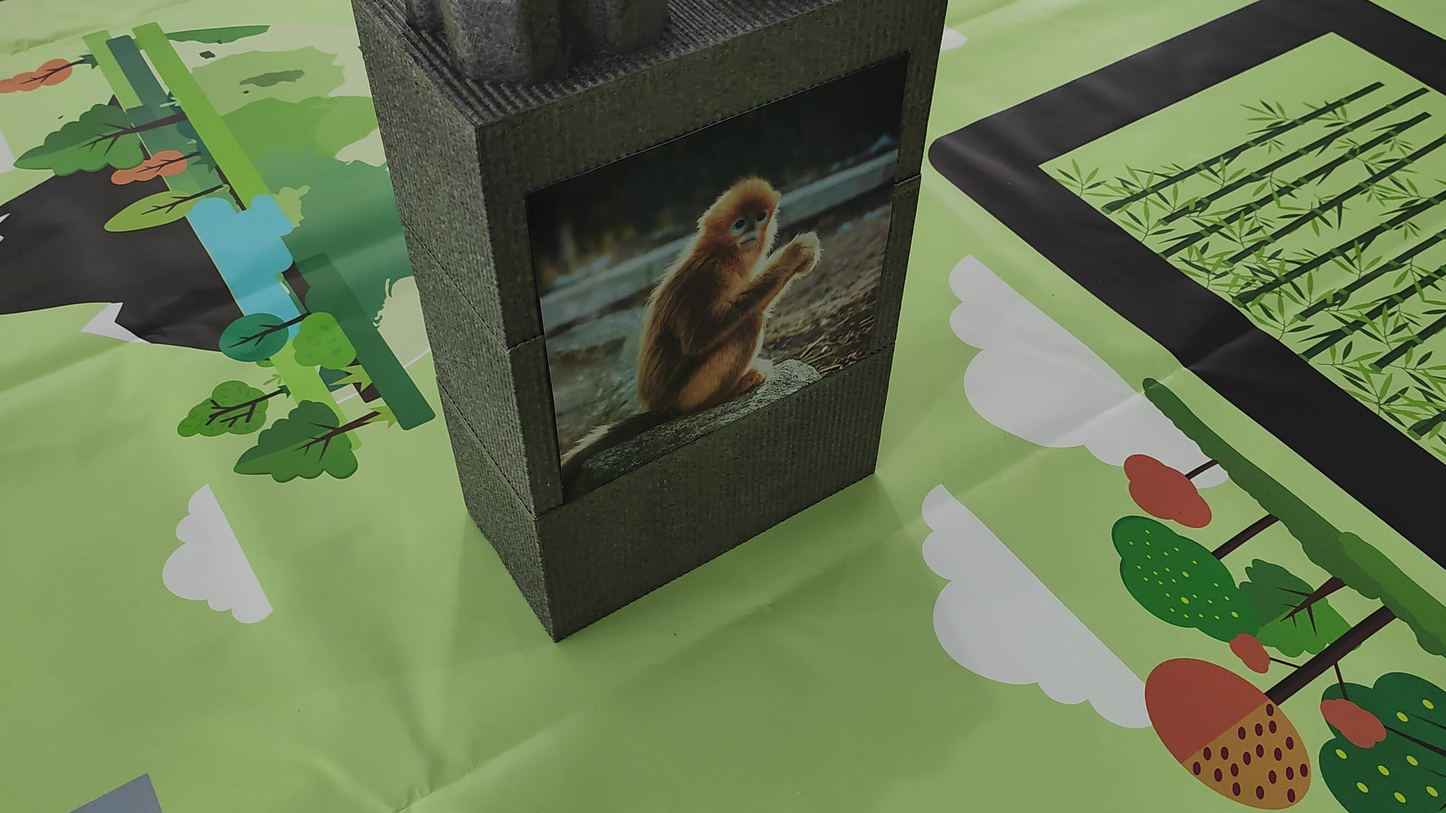monkey: (573, 149, 865, 419)
